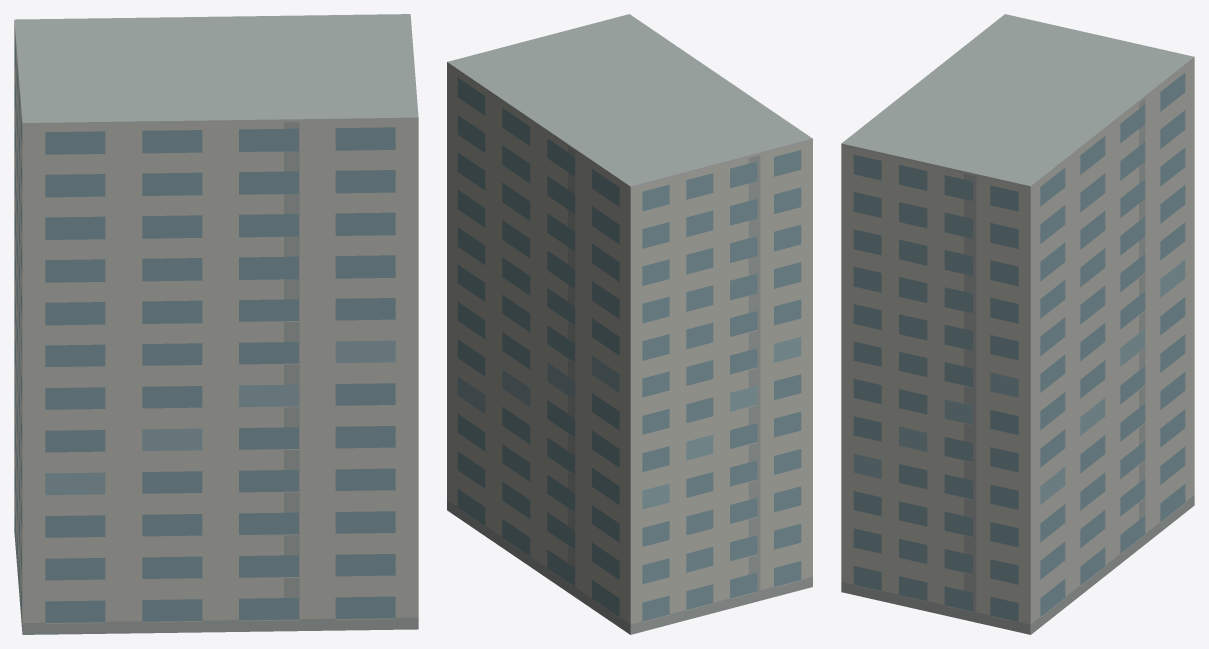
The model's file is residential-1ea04834-1d47-4db1-8676-f045d62ae6d8.glb.
3 views of the same model, side by side, from view 1: azimuth 30°, elevation 25°; view 2: azimuth 150°, elevation 25°; view 3: azimuth 270°, elevation 25° (orthographic). The views are drawn at different scales.
Visible parts, largest first — view 1: residential-1ea04834-1d47-4db1-8676-f045d62ae6d8.tmp; view 2: residential-1ea04834-1d47-4db1-8676-f045d62ae6d8.tmp; view 3: residential-1ea04834-1d47-4db1-8676-f045d62ae6d8.tmp.
Boxes of the visible parts, <box> form: residential-1ea04834-1d47-4db1-8676-f045d62ae6d8.tmp: <box>14,14,418,634</box>; residential-1ea04834-1d47-4db1-8676-f045d62ae6d8.tmp: <box>447,14,812,634</box>; residential-1ea04834-1d47-4db1-8676-f045d62ae6d8.tmp: <box>841,14,1194,634</box>.
Size of the model in its own units: 35.42 by 43 by 30.69.
